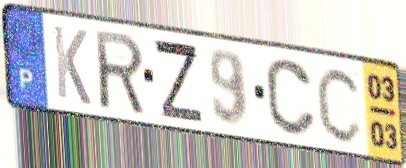9: (207, 46, 250, 131)
C: (263, 56, 319, 139), (314, 63, 365, 146)
K: (50, 22, 93, 109)
R: (92, 27, 149, 119)
Z: (151, 35, 206, 126)
